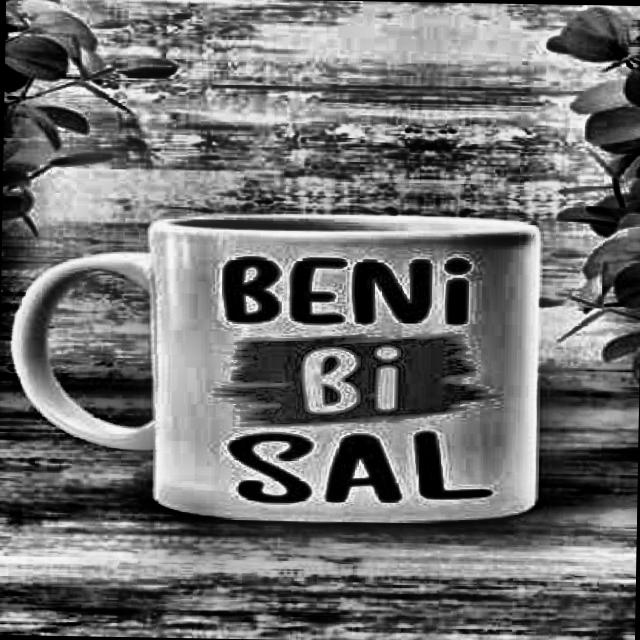Mug: (4, 207, 548, 530)
